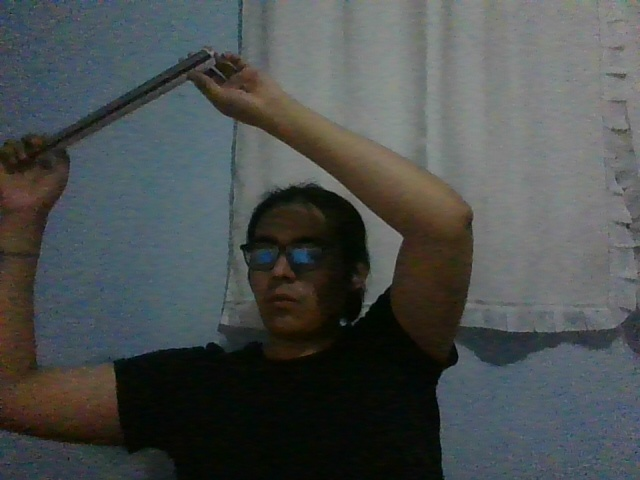regla: (27, 48, 216, 161)
